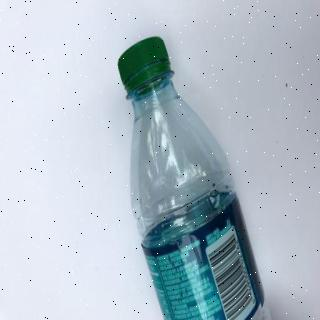Plastic-bottle: (115, 34, 279, 320)
